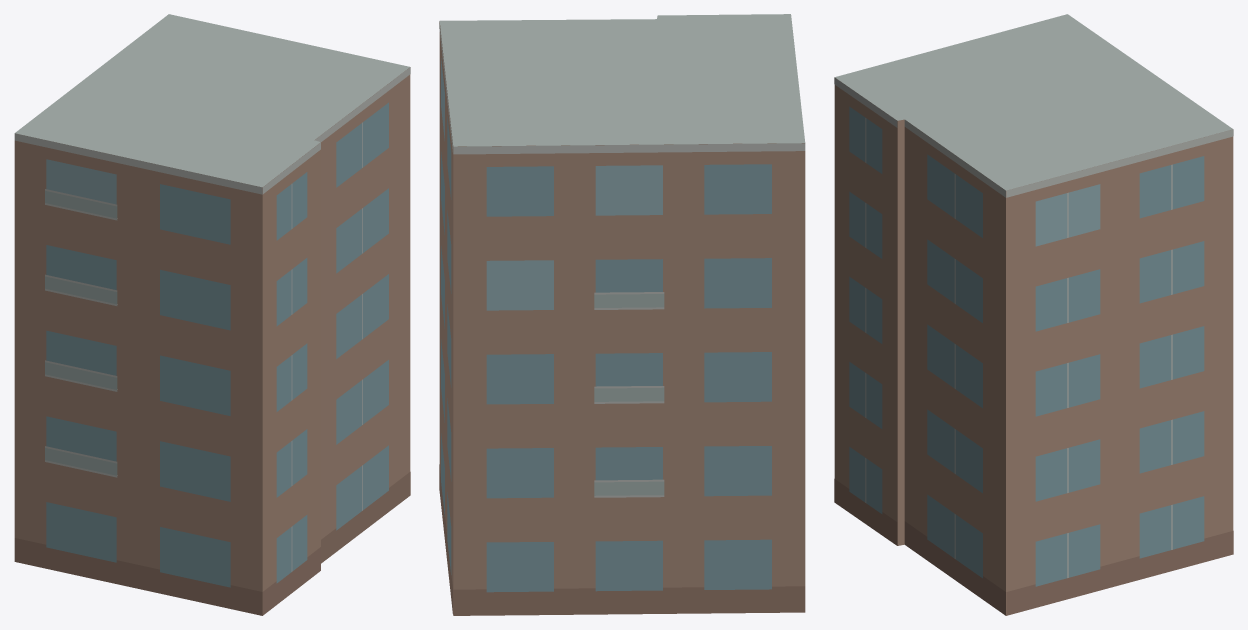
File: survey-upis-32781436.glb
3 renders of one model, left to right at view 1: azimuth 30°, elevation 25°; view 2: azimuth 150°, elevation 25°; view 3: azimuth 270°, elevation 25°, orthographic. The views are drawn at different scales.
Parts seen in each view (by area): view 1: survey-upis-32781436.tmp; view 2: survey-upis-32781436.tmp; view 3: survey-upis-32781436.tmp.
Part boxes in pixels (x1,y1,x2,y2): survey-upis-32781436.tmp: [14, 14, 410, 615]; survey-upis-32781436.tmp: [439, 14, 805, 615]; survey-upis-32781436.tmp: [834, 14, 1233, 615].
Bounding box in the file's own units: 12.8 × 14.35 × 12.21.
